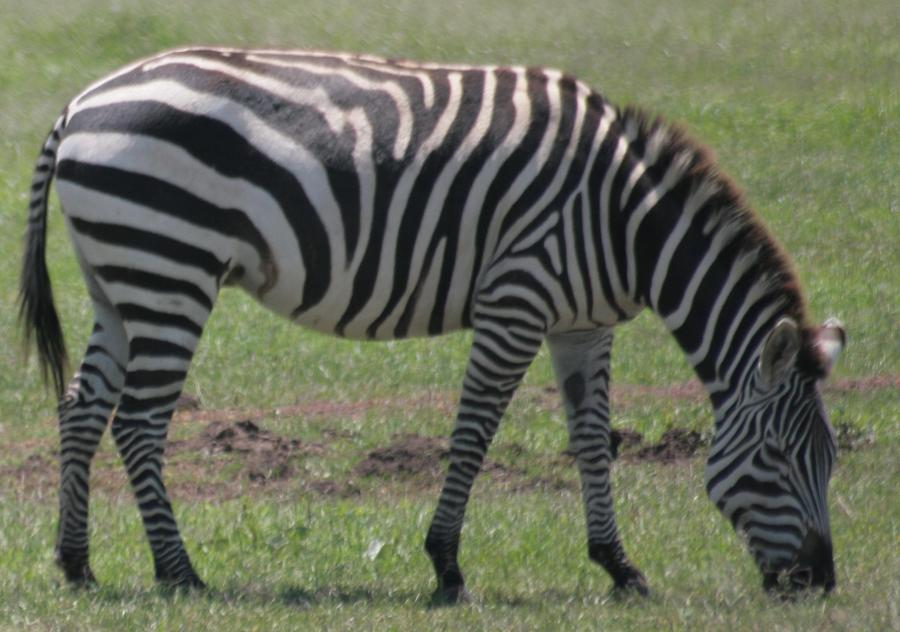zebra_plains: (59, 35, 597, 332)
